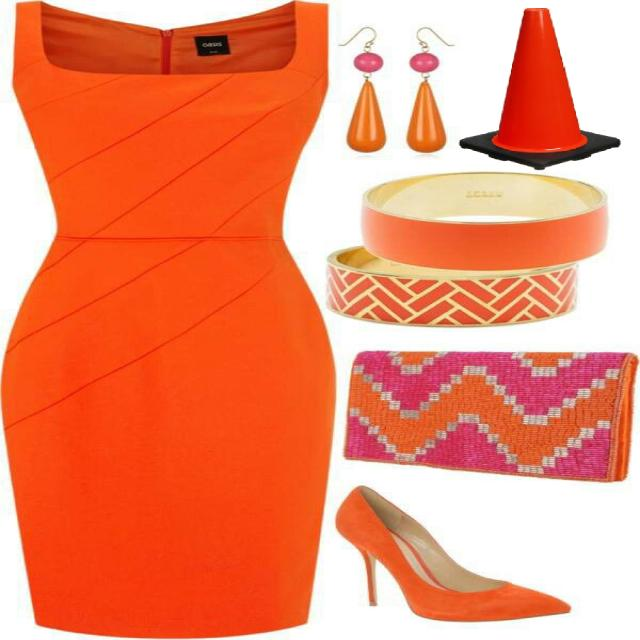traffic cone: (454, 6, 635, 173)
